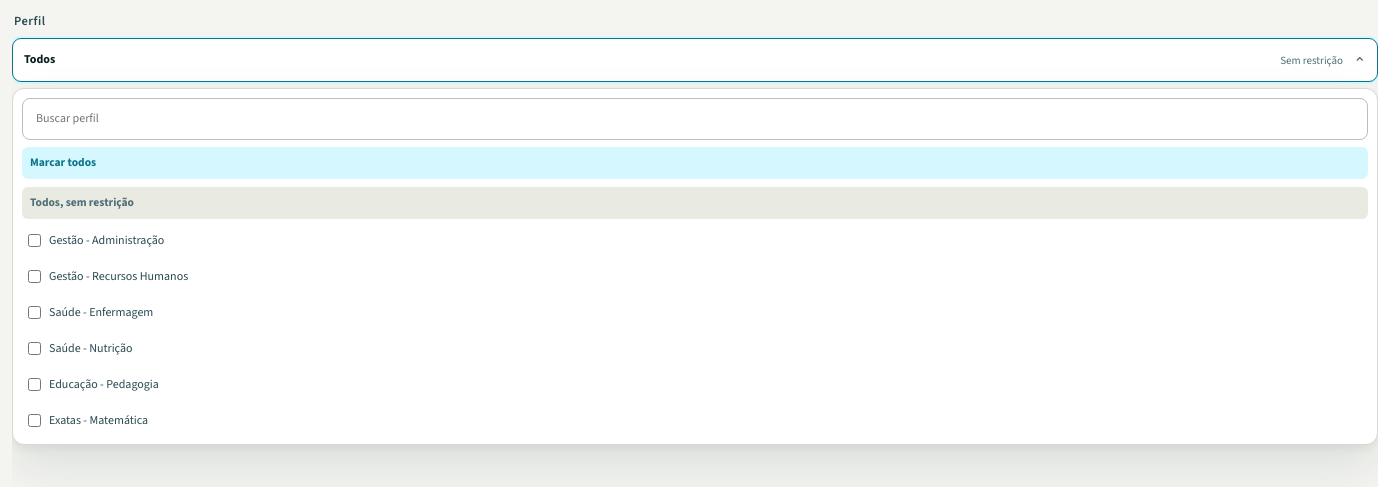
Scenario: MultiSelect › busca ignorando acento e caixa
Type "saude" into the search field at (695, 119), box top-left (22, 98), bottom-right (1368, 140)
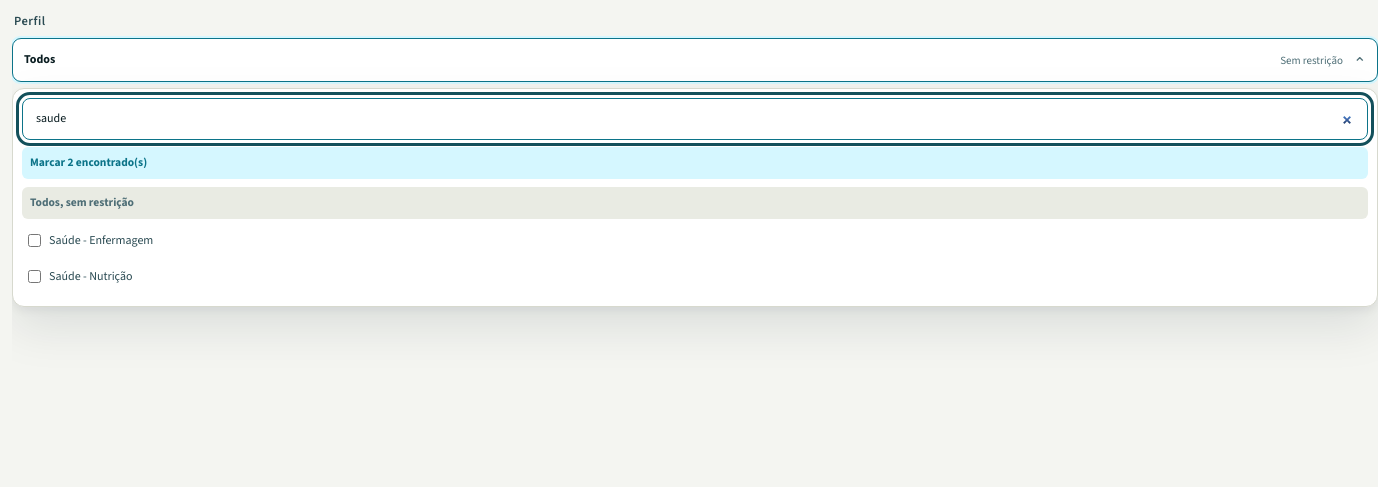
Check: the number of checkboxes is 2, box top-left (28, 234), bottom-right (41, 247); top-left (28, 270), bottom-right (41, 283)
